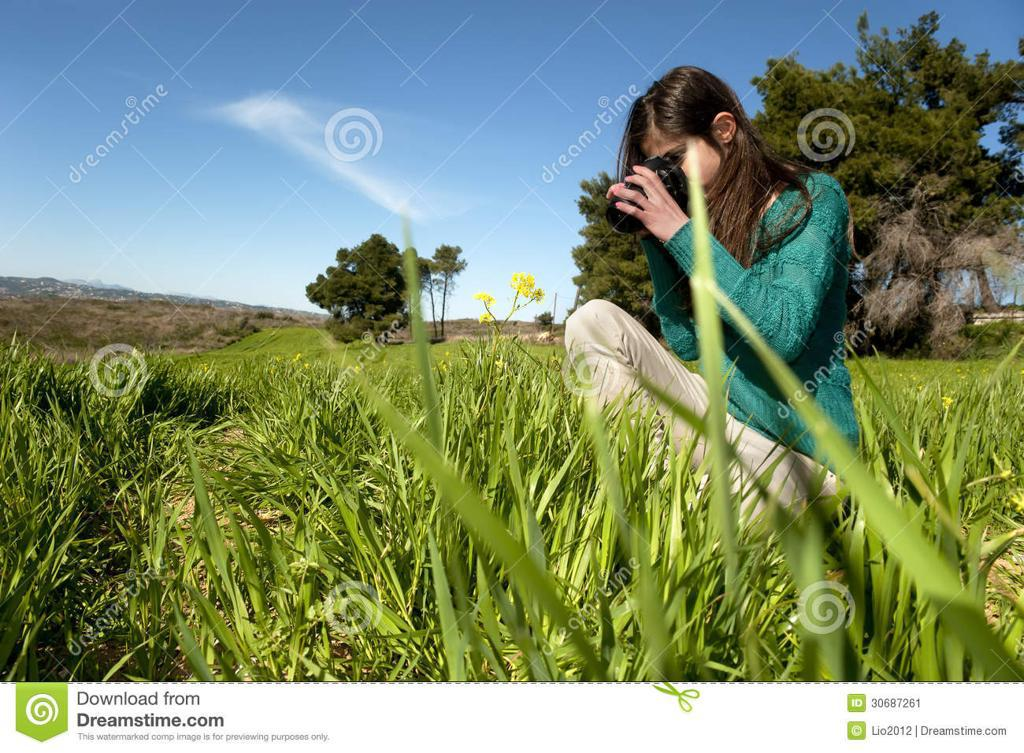face: (639, 133, 721, 213)
